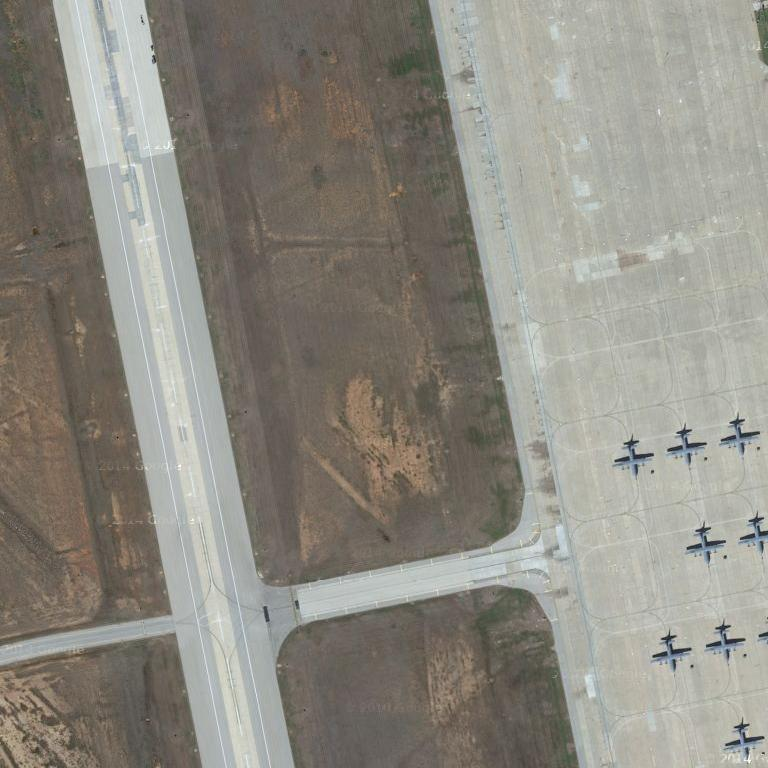C-130: (718, 724, 767, 763), (610, 440, 657, 479), (665, 428, 709, 466), (718, 421, 762, 458), (703, 626, 747, 662), (650, 636, 691, 672), (684, 529, 728, 562), (737, 521, 768, 558)
